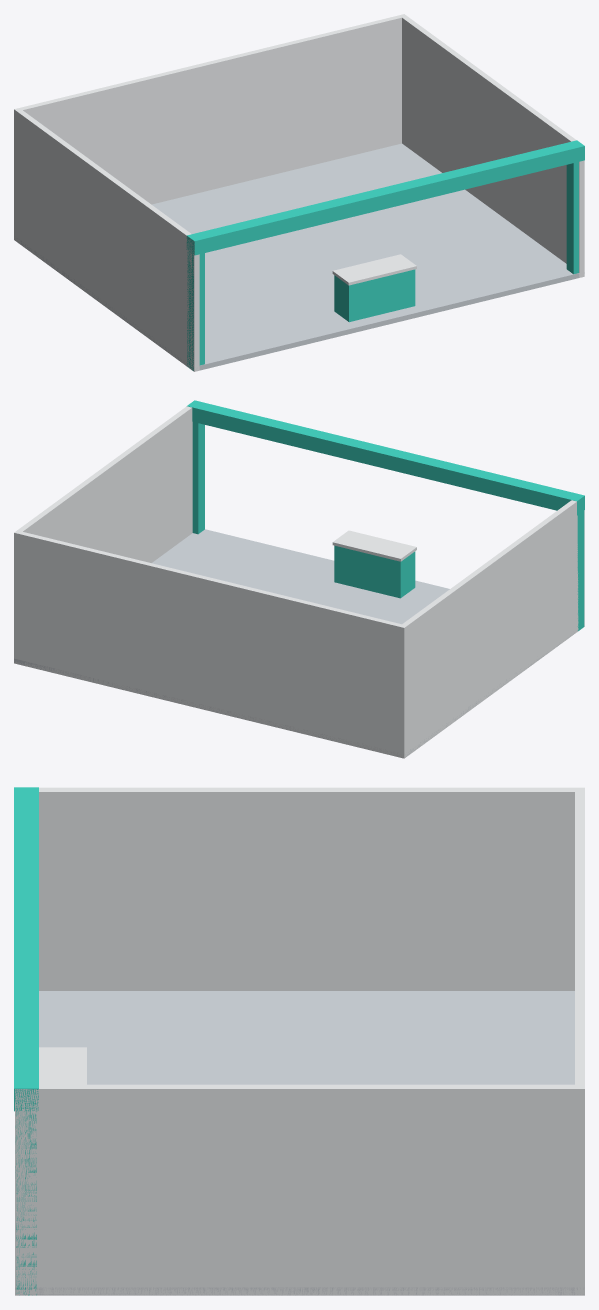
3 renders of one model, top to bottom at view 1: azimuth 30°, elevation 25°; view 2: azimuth 150°, elevation 25°; view 3: azimuth 270°, elevation 25°, orthographic. The views are drawn at different scales.
Parts seen in each view (by area): view 1: Exhibition Booth Concept; view 2: Exhibition Booth Concept; view 3: Exhibition Booth Concept.
Part boxes in pixels (x1,y1,x2,y2): Exhibition Booth Concept: (14,14,584,371); Exhibition Booth Concept: (14,400,584,758); Exhibition Booth Concept: (14,787,584,1295).
Bounding box in the file's own units: 10 × 3.2 × 8.01.
